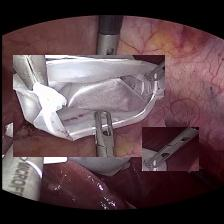Grasper: (0, 118, 50, 180), (141, 128, 197, 171), (87, 32, 117, 103)
Specimen Bag: (12, 55, 163, 157)
